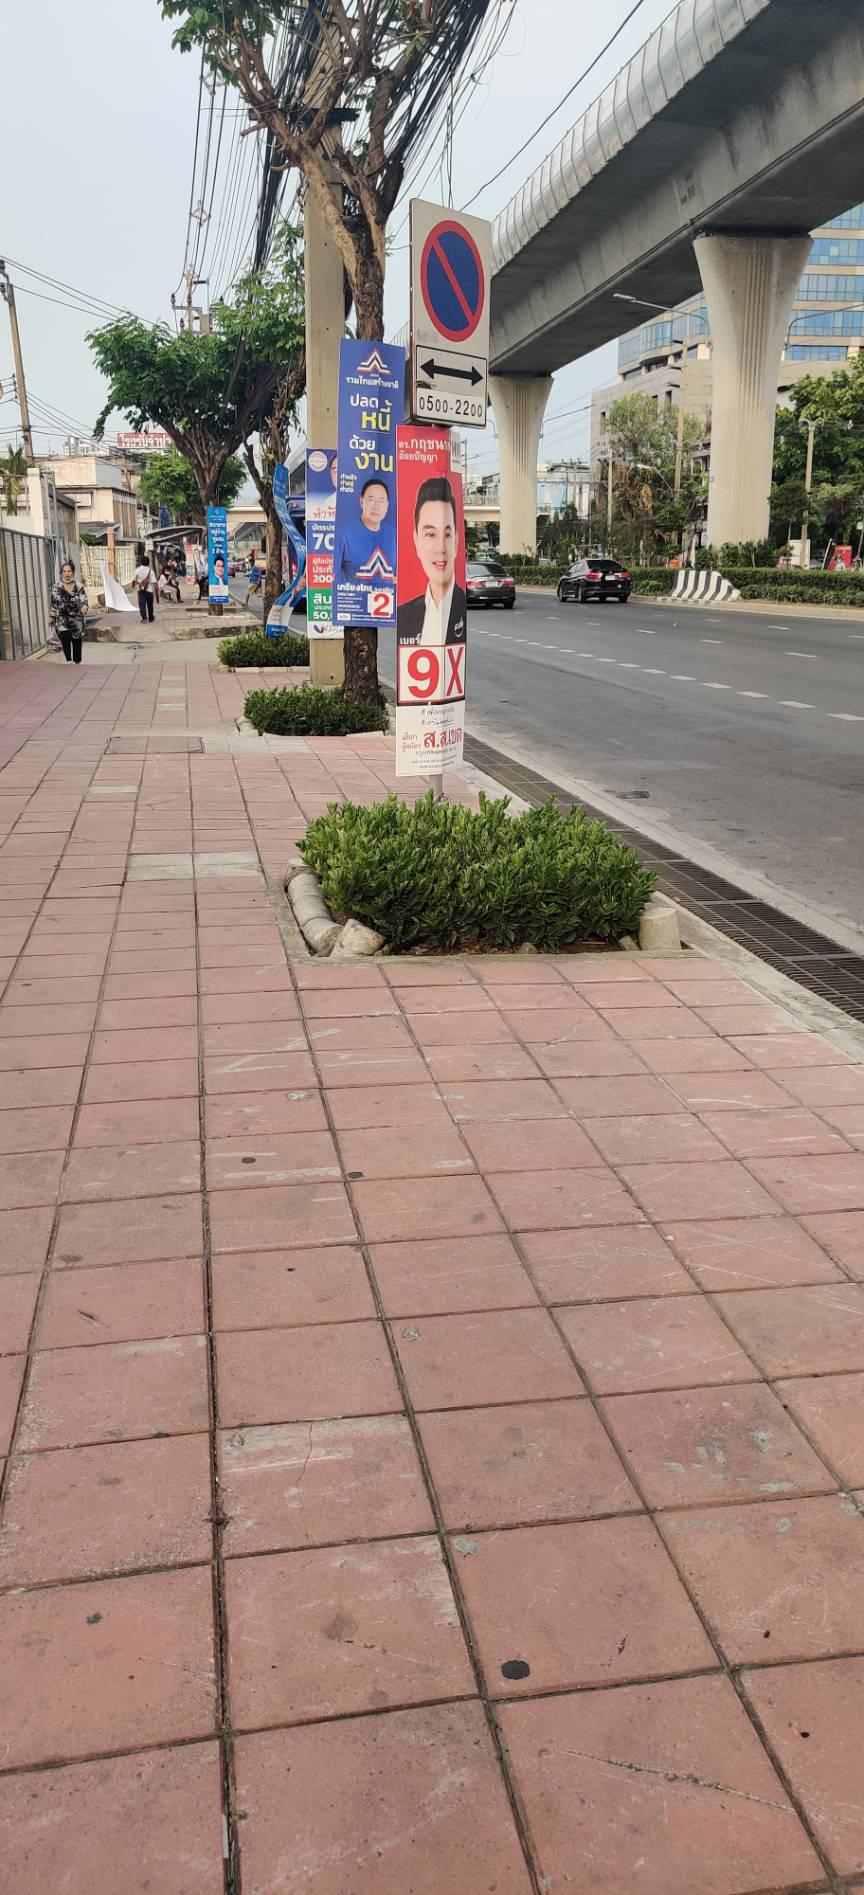Banner: (390, 436, 479, 776), (340, 335, 405, 639)
